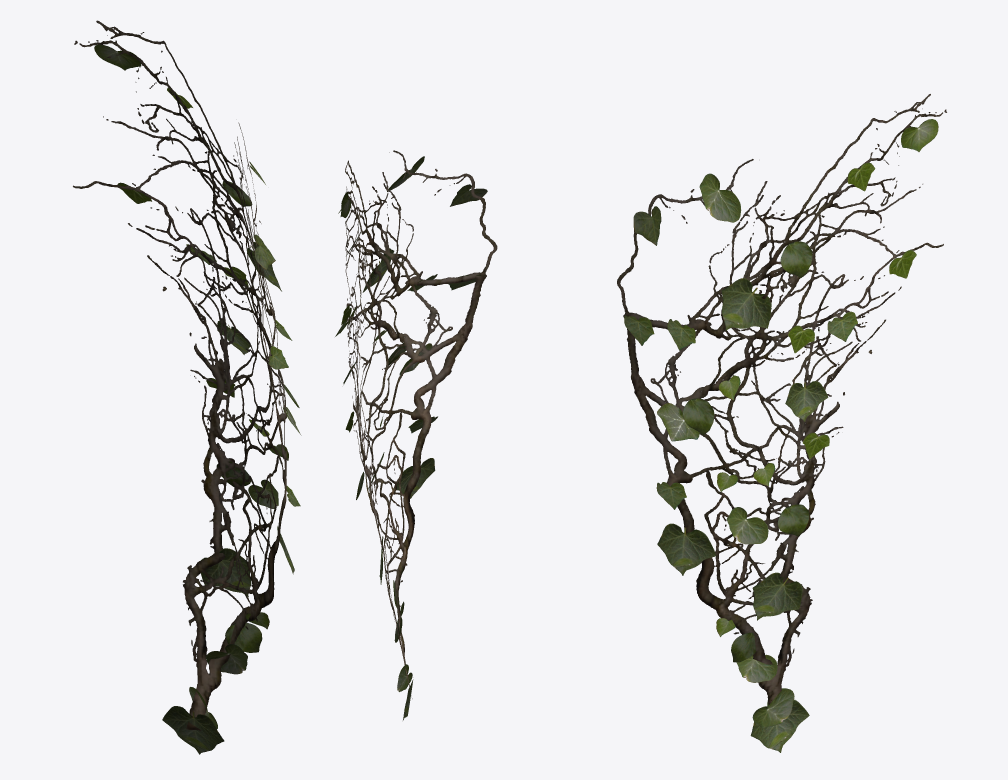
File: ivy_01.DAE
The picture shows the model from 3 angles, left to right: view 1: azimuth 30°, elevation 25°; view 2: azimuth 150°, elevation 25°; view 3: azimuth 270°, elevation 25°; orthographic projection. The views are drawn at different scales.
Visible parts, largest first — view 1: foliage_Ivy01__2_, foliage_Ivy01__2_001; view 2: foliage_Ivy01__2_, foliage_Ivy01__2_001; view 3: foliage_Ivy01__2_, foliage_Ivy01__2_001.
Boxes of the visible parts, <box> form: foliage_Ivy01__2_: <box>73,20,300,754</box>; foliage_Ivy01__2_001: <box>75,22,299,752</box>; foliage_Ivy01__2_: <box>335,150,497,720</box>; foliage_Ivy01__2_001: <box>338,151,495,719</box>; foliage_Ivy01__2_: <box>617,94,946,752</box>; foliage_Ivy01__2_001: <box>617,94,946,751</box>.
Bounding box in the file's own units: 0.6325 × 3.29 × 1.73.
